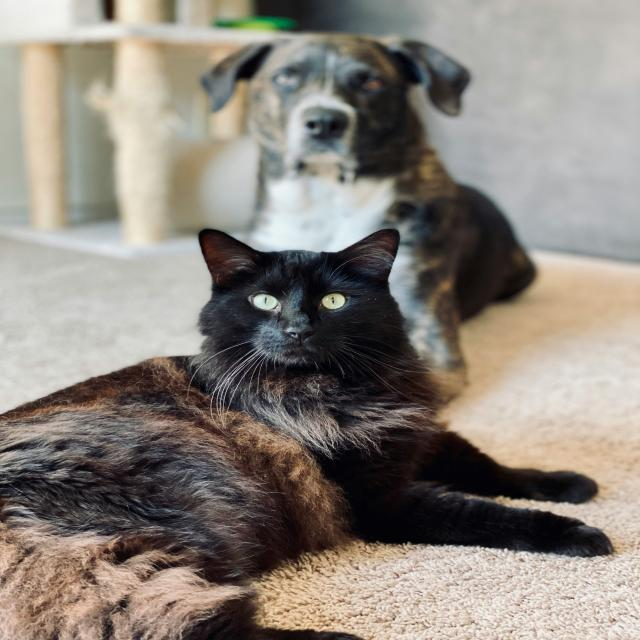cat: (179, 212, 451, 428)
dog: (173, 14, 476, 182)
